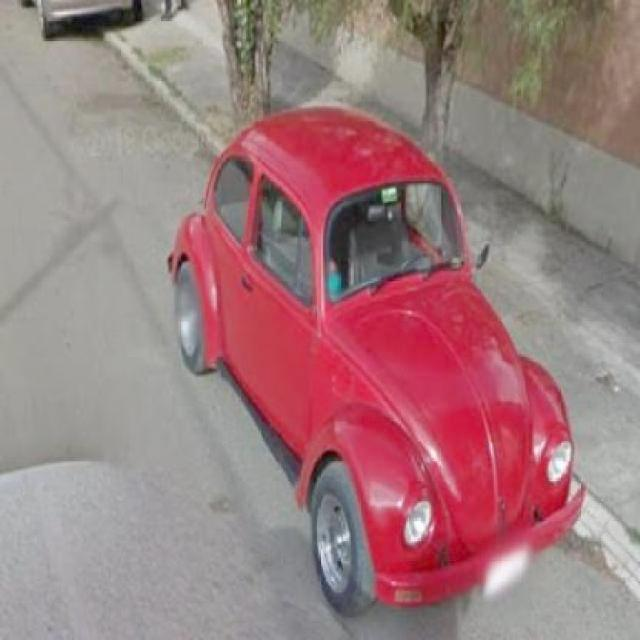car: (175, 99, 583, 624)
